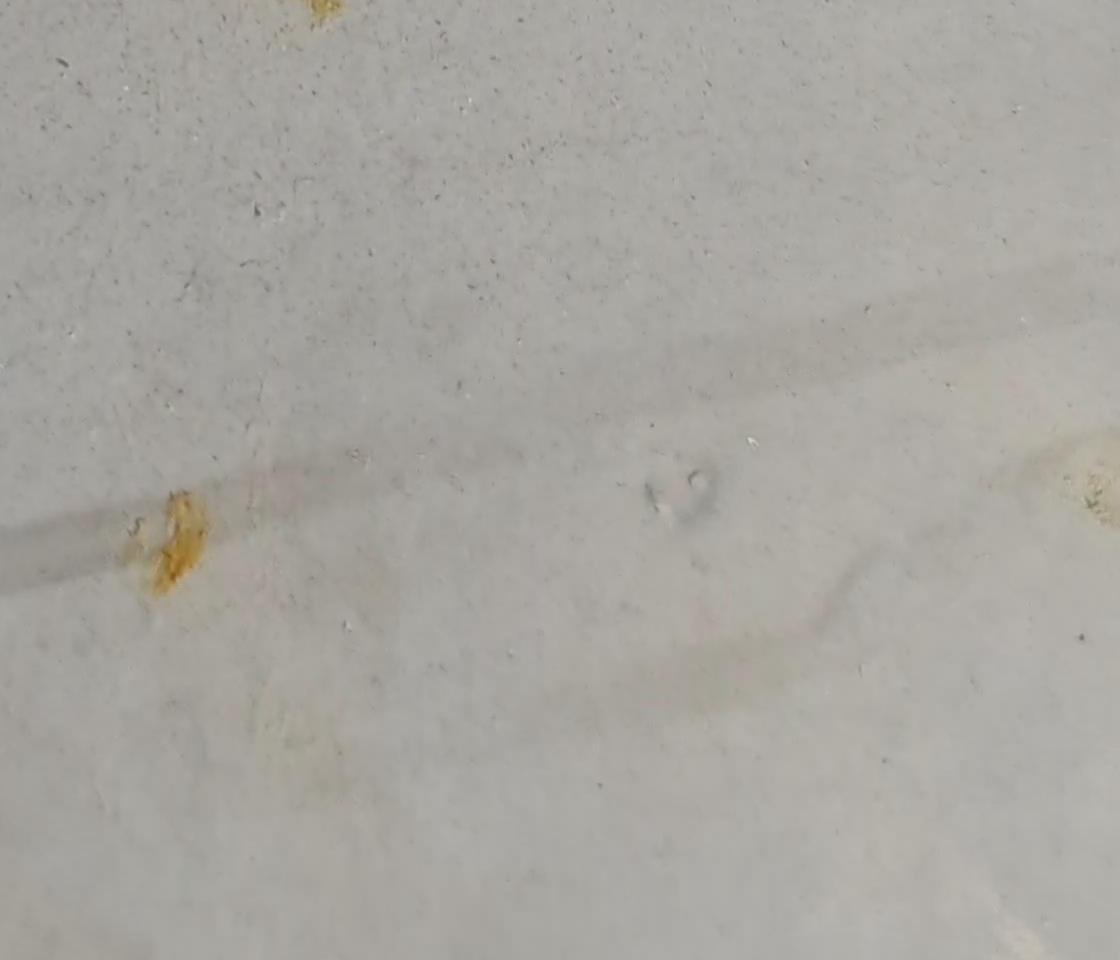rust: (148, 490, 217, 597)
